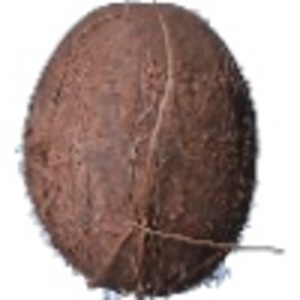coco: (15, 1, 259, 300)
